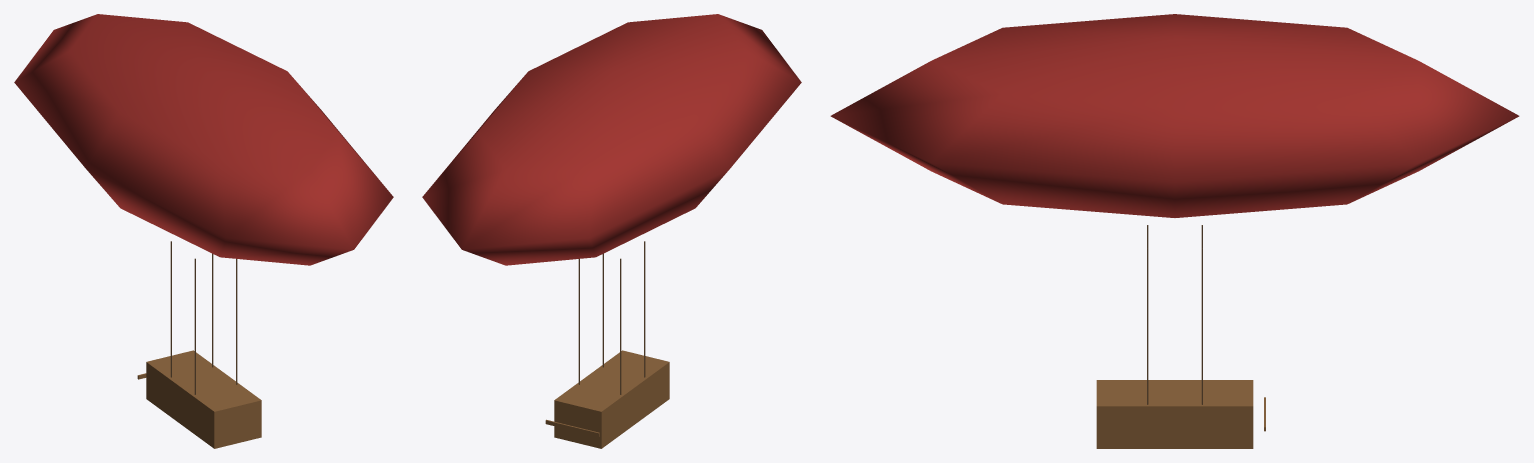
File: veh_air_balloon_a05_lod1.glb
The picture shows the model from 3 angles, left to right: view 1: azimuth 30°, elevation 25°; view 2: azimuth 150°, elevation 25°; view 3: azimuth 270°, elevation 25°; orthographic projection. The views are drawn at different scales.
Visible parts, largest first — view 1: body; view 2: body; view 3: body.
Part boxes in pixels (<box>): body: <box>14,14,393,448</box>; body: <box>422,14,801,448</box>; body: <box>830,14,1519,448</box>.
Bounding box in the file's own units: 8 × 11.2 × 17.6.
